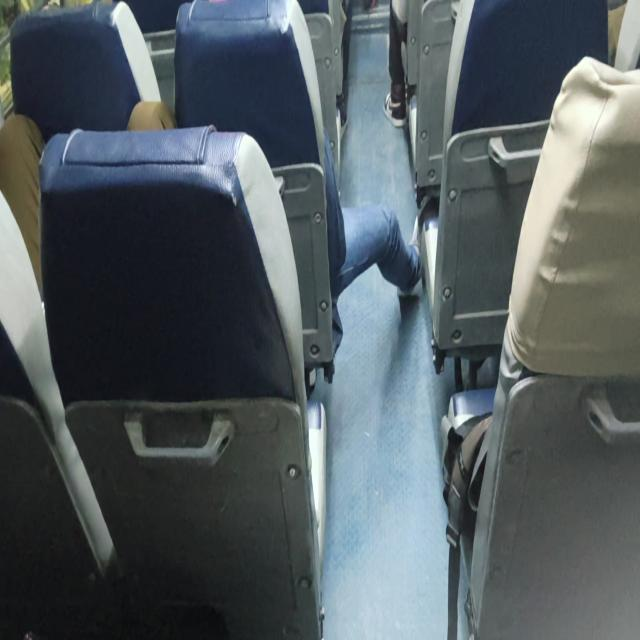person: (126, 0, 424, 375), (0, 98, 176, 302), (321, 126, 424, 362), (383, 0, 410, 128)
